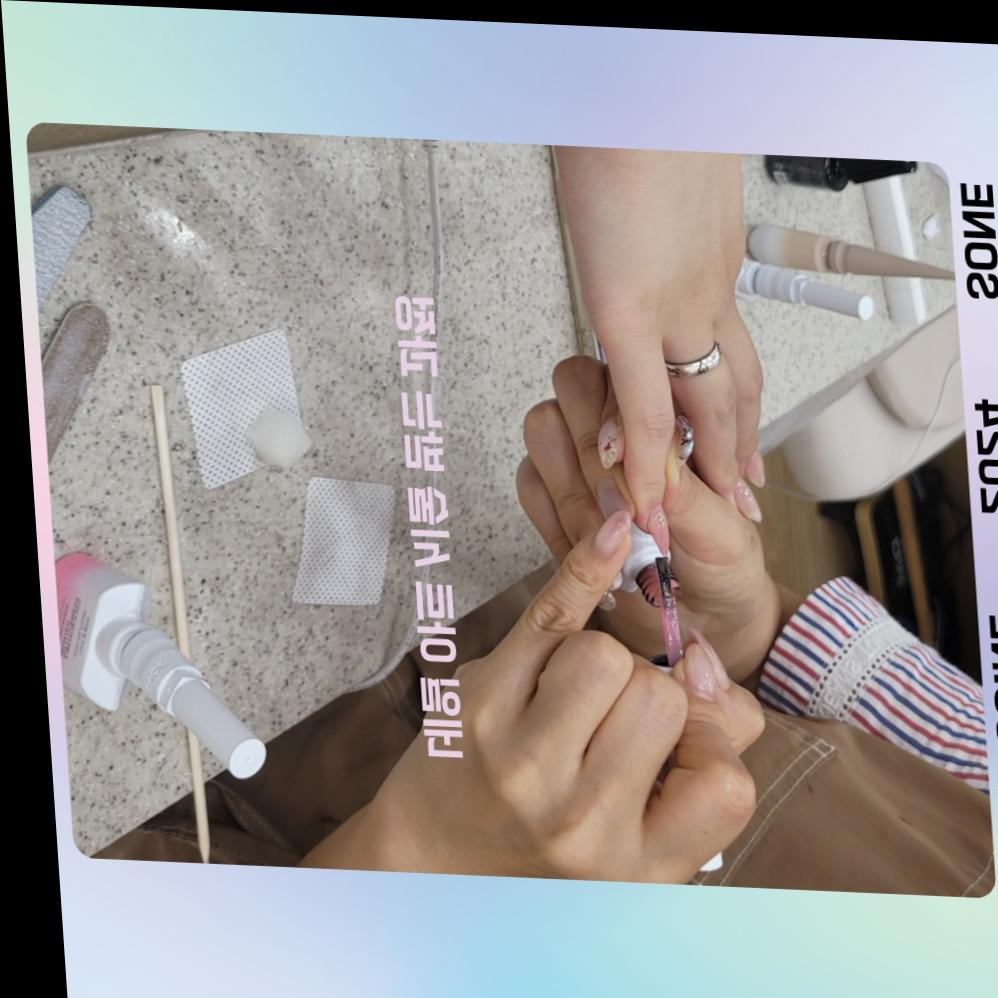nail: (37, 301, 121, 468), (29, 184, 99, 309), (590, 509, 635, 560), (681, 641, 718, 703), (733, 479, 764, 524), (743, 451, 766, 489)
